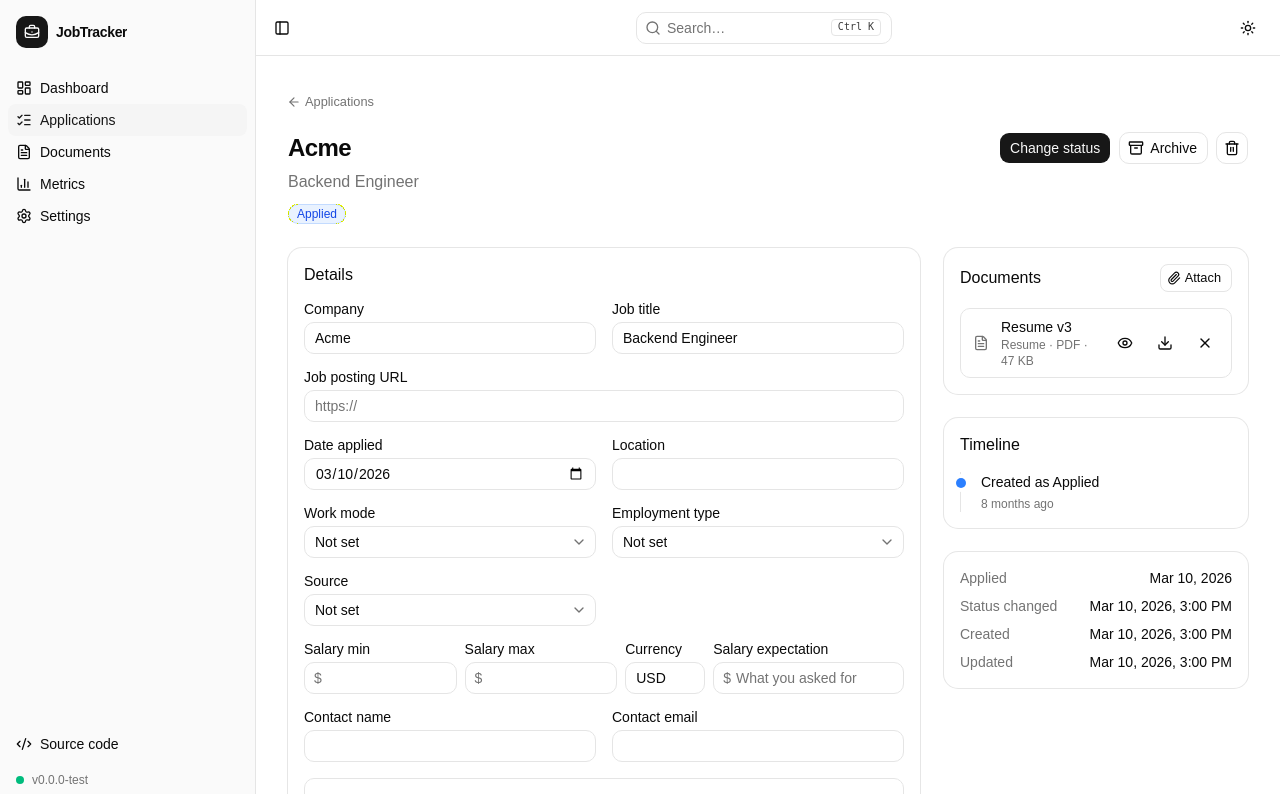
Test: Attaching documents › the detail page attaches library documents with a PUT
expect the list named "Attached documents" shows "Resume v3": met, box [1001, 319, 1072, 335]
Click the button "Attach": x=1196, y=278 [1160, 264, 1232, 292]
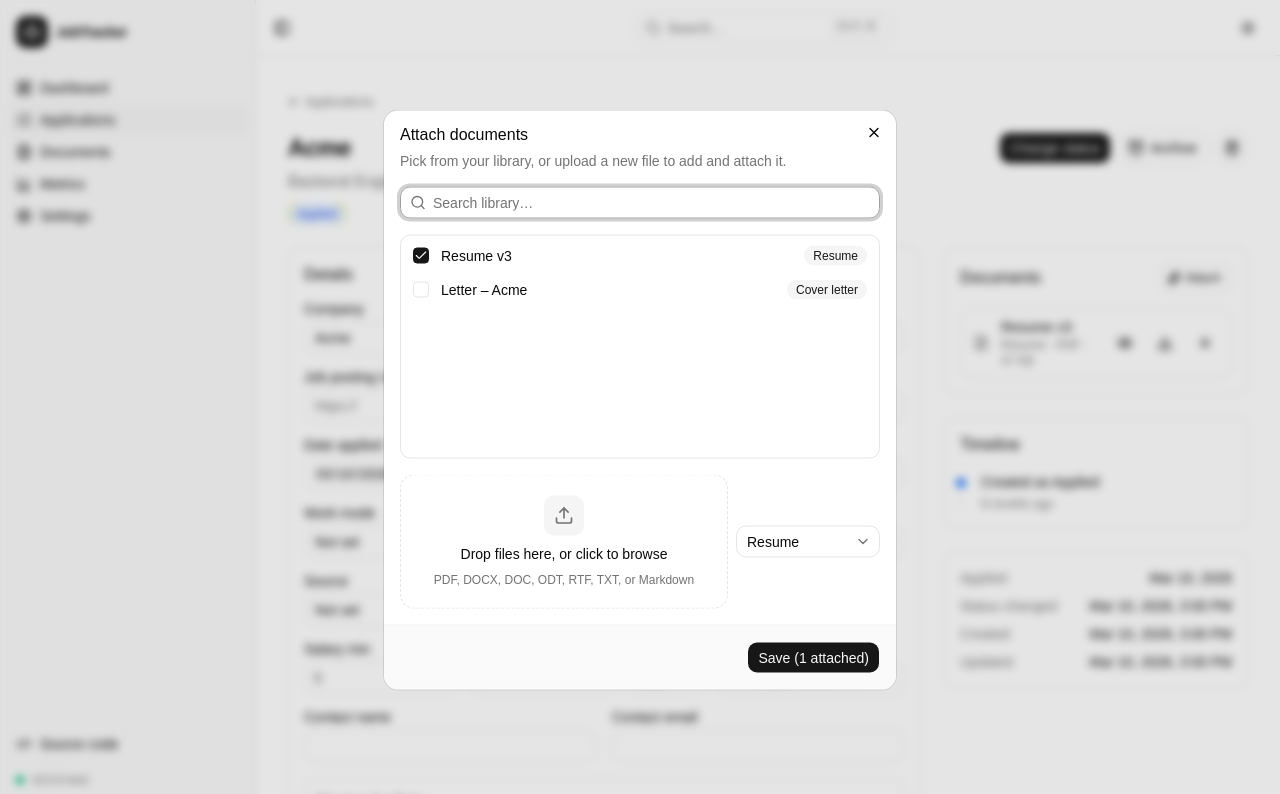
expect the 1st checkbox named "Resume v3" is checked: met, box [413, 248, 429, 264]
Click the checkbox named "Letter – Acme" next to "Letter – Acme": x=421, y=290 [413, 282, 429, 298]
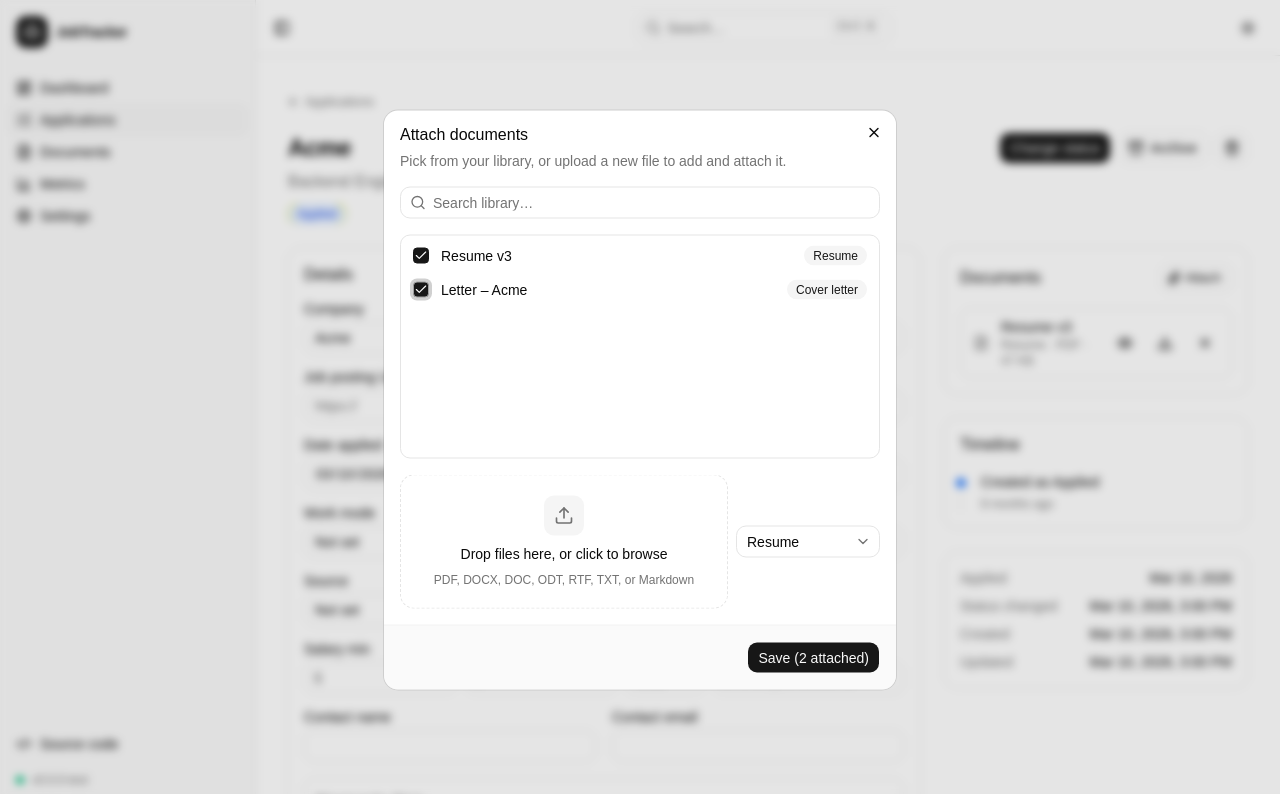
Click the button "Save (2 attached)": x=814, y=658 [748, 642, 880, 674]
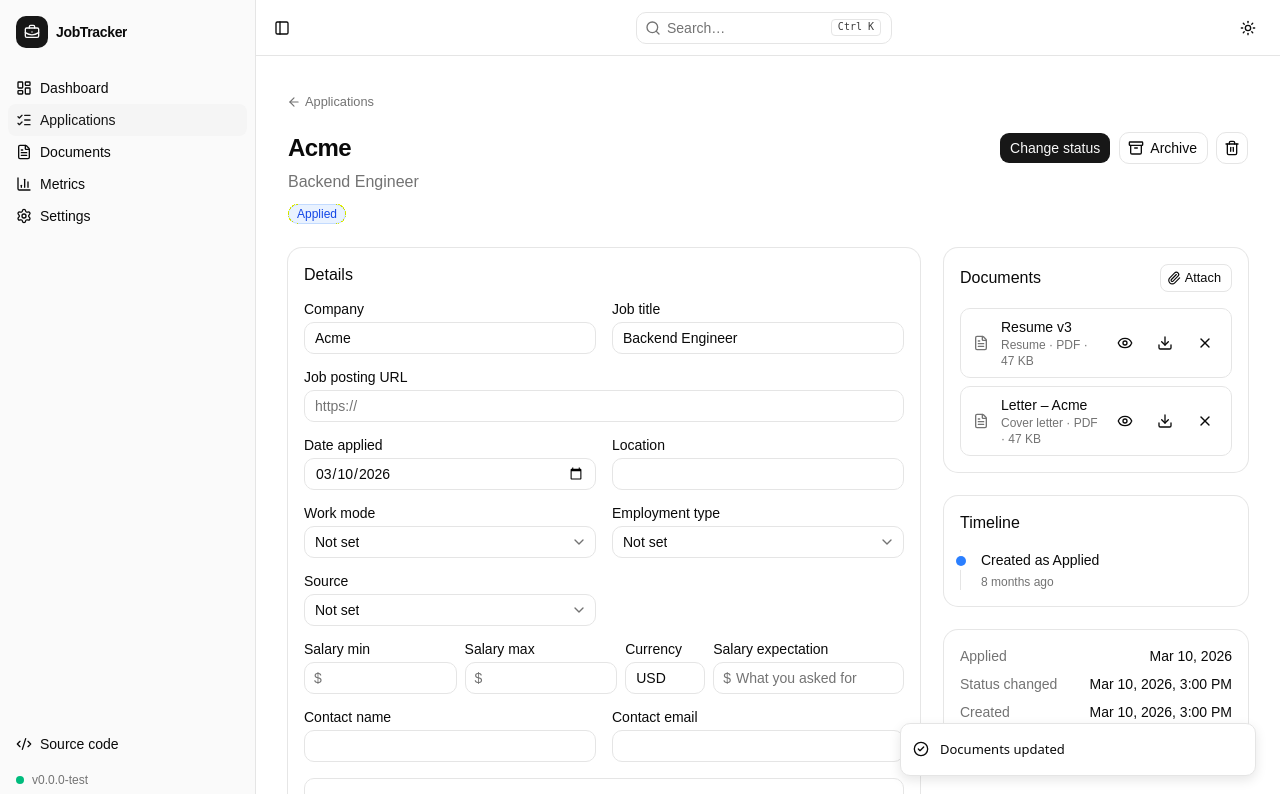
expect the list named "Attached documents" shows "Letter – Acme": met, box [1001, 397, 1087, 413]
